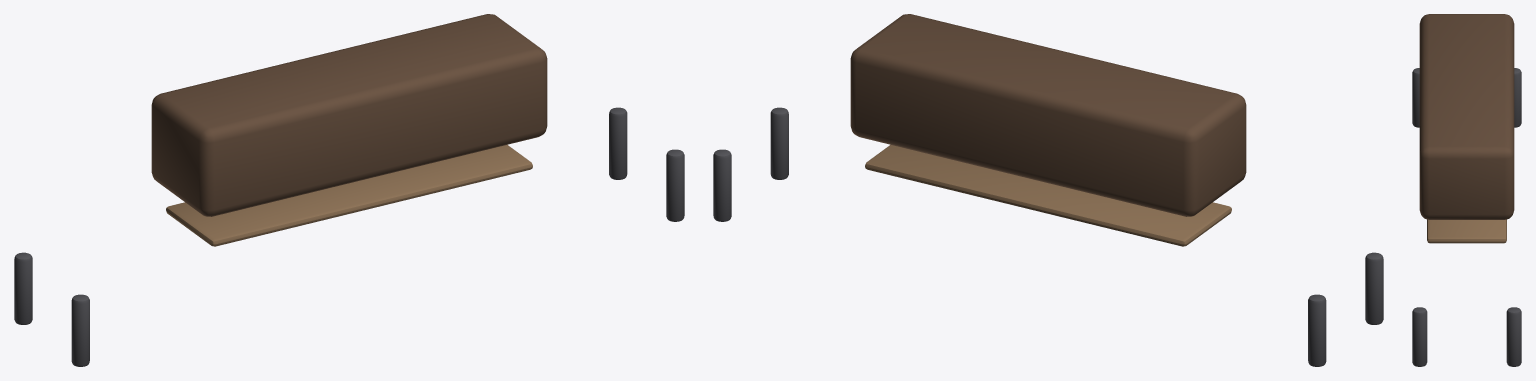
Rendered from tv_stand.glb.
The picture shows the model from 3 angles, left to right: view 1: azimuth 30°, elevation 25°; view 2: azimuth 150°, elevation 25°; view 3: azimuth 270°, elevation 25°; orthographic projection. The views are drawn at different scales.
Parts seen in each view (by area): view 1: body, shelf, leg.002, leg.001, leg, leg.003; view 2: body, shelf, leg.003, leg, leg.001, leg.002; view 3: body, shelf, leg.002, leg.003, leg, leg.001.
Boxes of the visible parts, x1,y1,x2,y2 form: body: [151, 14, 547, 216]; shelf: [166, 144, 532, 246]; leg.002: [666, 149, 684, 221]; leg.001: [14, 252, 32, 324]; leg: [71, 294, 89, 366]; leg.003: [609, 107, 627, 179]; body: [850, 14, 1246, 216]; shelf: [865, 144, 1231, 246]; leg.003: [713, 149, 731, 221]; leg: [1365, 252, 1383, 324]; leg.001: [1308, 294, 1326, 366]; leg.002: [770, 107, 788, 179]; body: [1419, 14, 1514, 219]; shelf: [1427, 219, 1506, 243]; leg.002: [1412, 307, 1427, 366]; leg.003: [1506, 307, 1521, 366]; leg: [1412, 68, 1419, 127]; leg.001: [1514, 68, 1521, 127].
Bounding box in the file's own units: 1.23 × 0.385 × 0.232.
